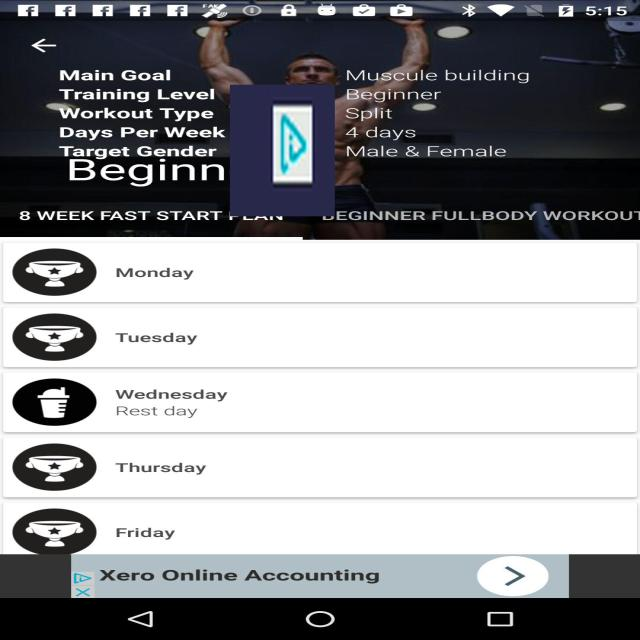sneaking: (230, 85, 335, 216)
